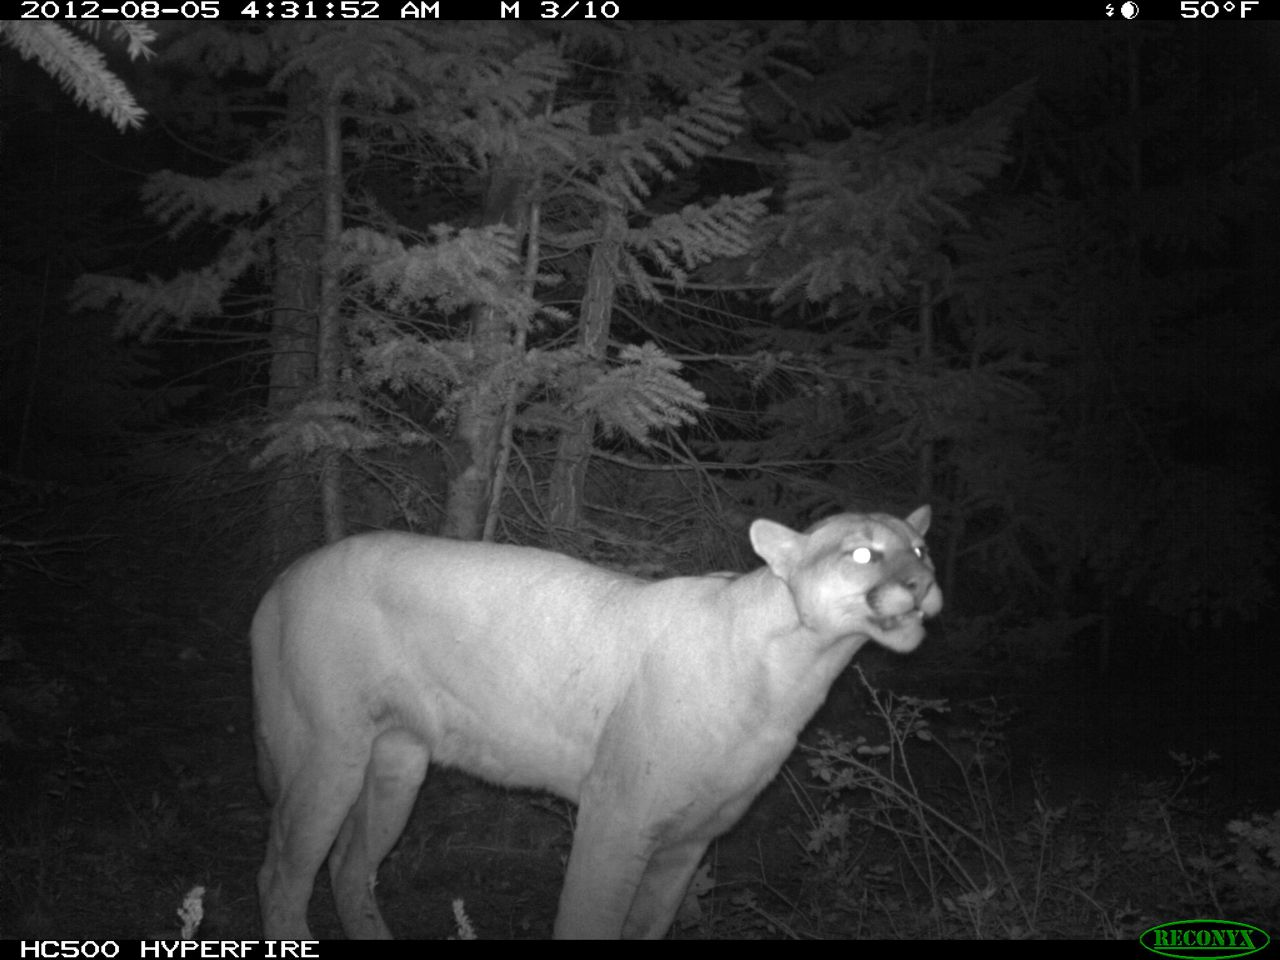mountain lion: (220, 496, 953, 942)
